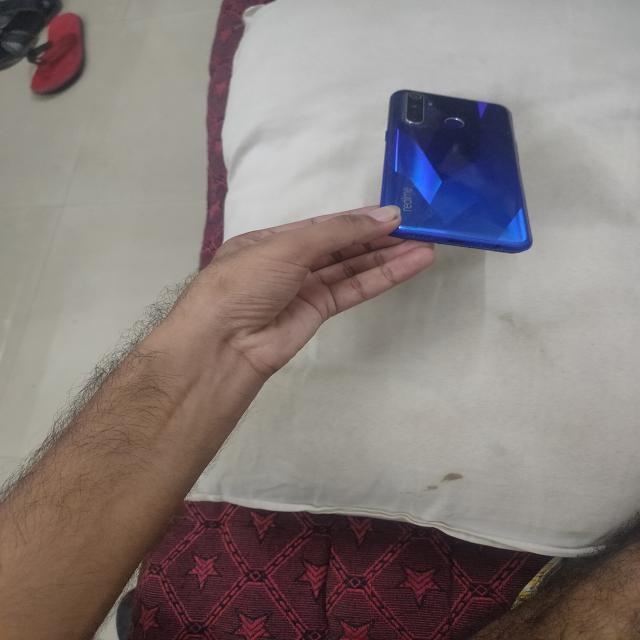Phone: (374, 84, 537, 263)
